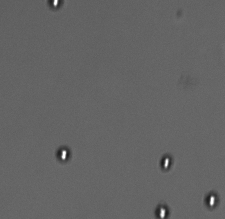Living Cell: (159, 152, 175, 173), (55, 144, 71, 163), (204, 190, 220, 209), (154, 203, 170, 218), (46, 1, 64, 11)
